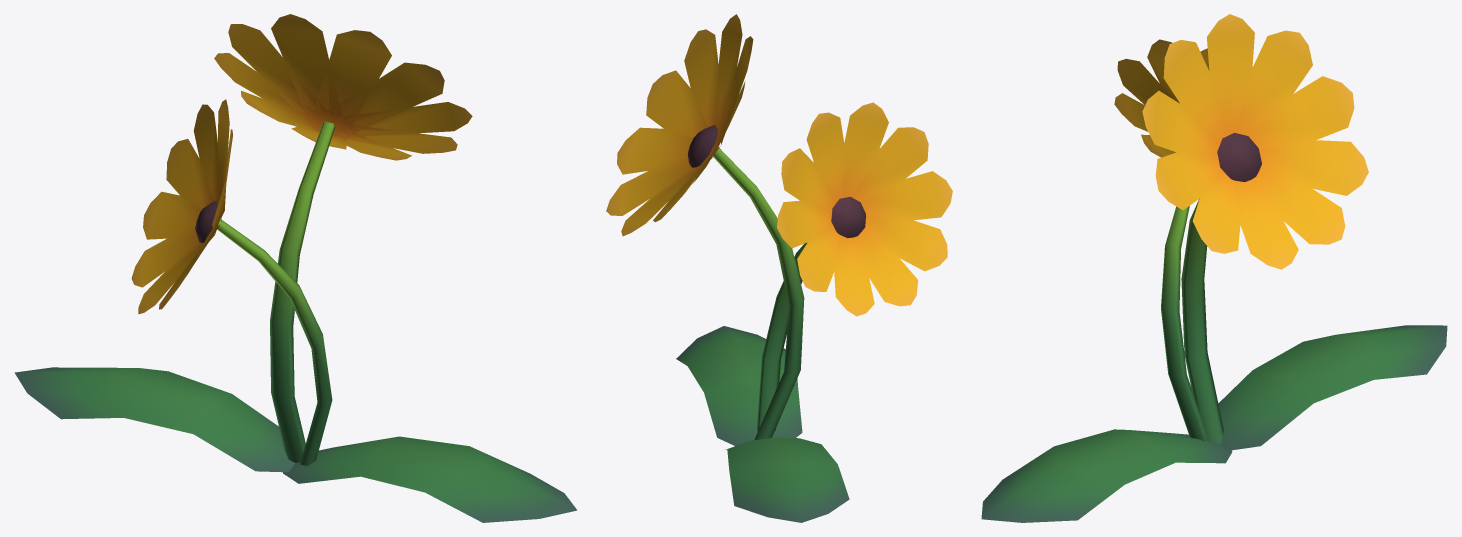
File: Flower_016.fbx
The picture shows the model from 3 angles, left to right: view 1: azimuth 30°, elevation 25°; view 2: azimuth 150°, elevation 25°; view 3: azimuth 270°, elevation 25°; orthographic projection. The views are drawn at different scales.
Parts seen in each view (by area): view 1: Flower.016; view 2: Flower.016; view 3: Flower.016.
Part boxes in pixels (x1=…): Flower.016: x1=15, y1=14, x2=577, y2=522; Flower.016: x1=606, y1=14, x2=952, y2=522; Flower.016: x1=981, y1=14, x2=1447, y2=522.
Size of the model in its own units: 2.13 by 2.68 by 2.61.
